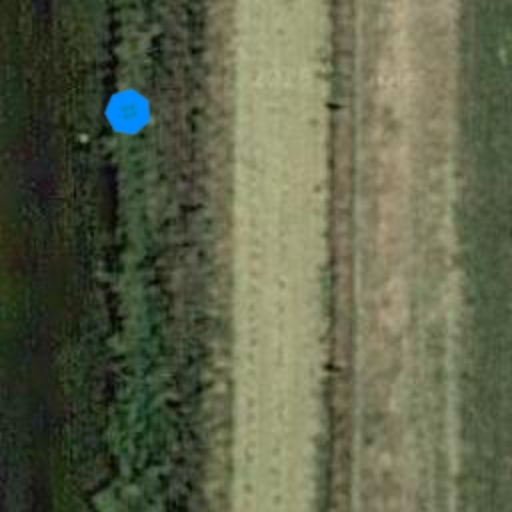heptagon: (98, 82, 158, 142)
